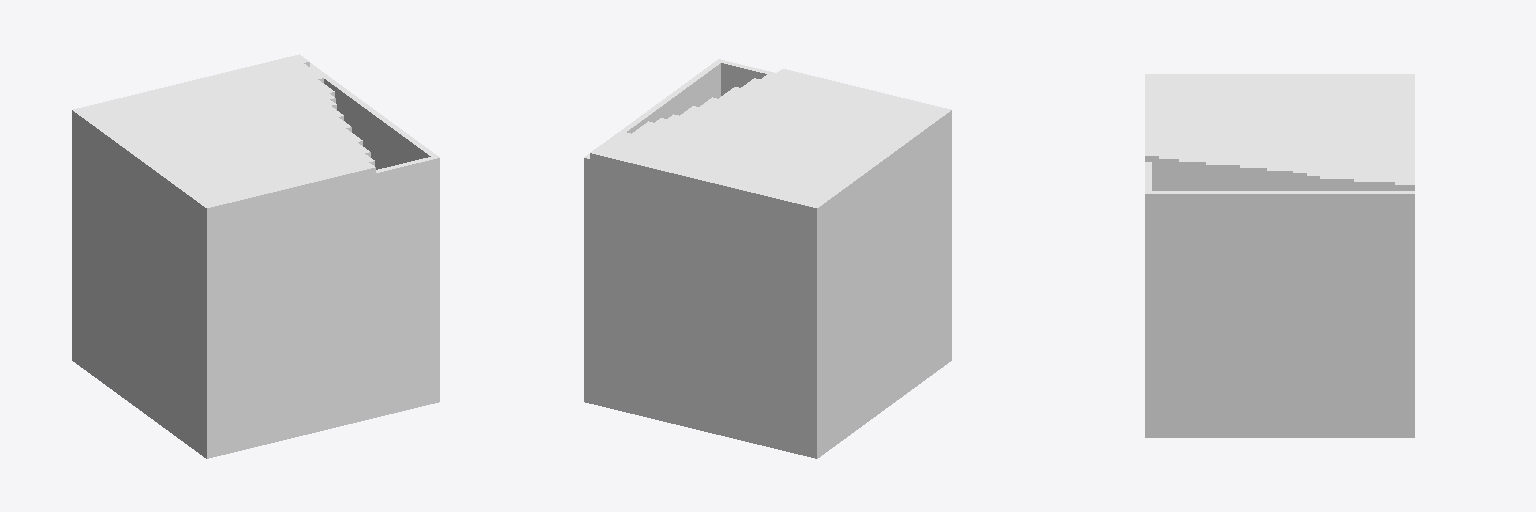
Rendered from others2-6.obj.
The picture shows the model from 3 angles: view 1: azimuth 30°, elevation 25°; view 2: azimuth 150°, elevation 25°; view 3: azimuth 270°, elevation 25°; orthographic projection.
Parts seen in each view (by area): view 1: object 1; view 2: object 1; view 3: object 1.
Boxes of the visible parts, x1,y1,x2,y2 form: object 1: [72, 54, 439, 458]; object 1: [584, 59, 951, 458]; object 1: [1145, 74, 1414, 437].
Bounding box in the file's own units: 4 × 4.1 × 4.